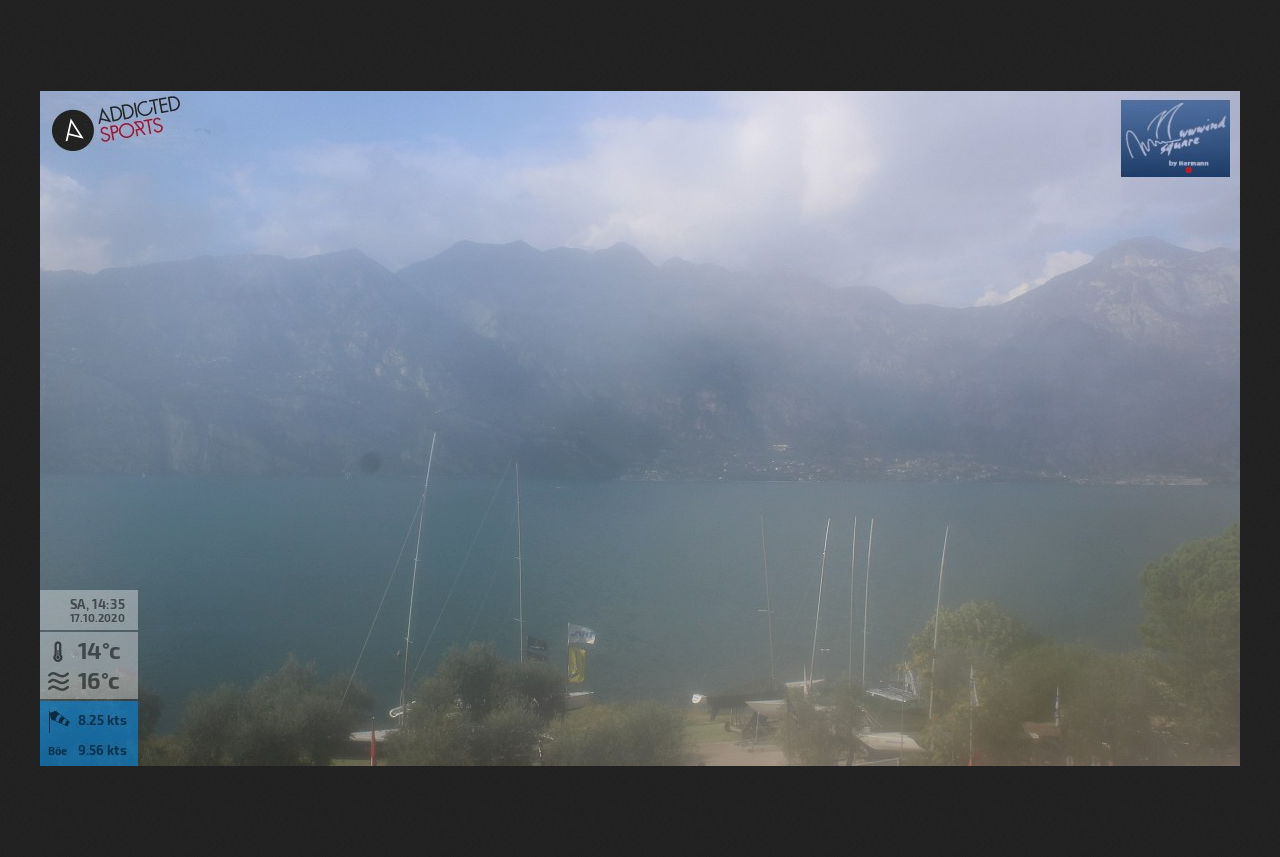yes: (563, 620, 598, 646), (567, 646, 589, 686)
